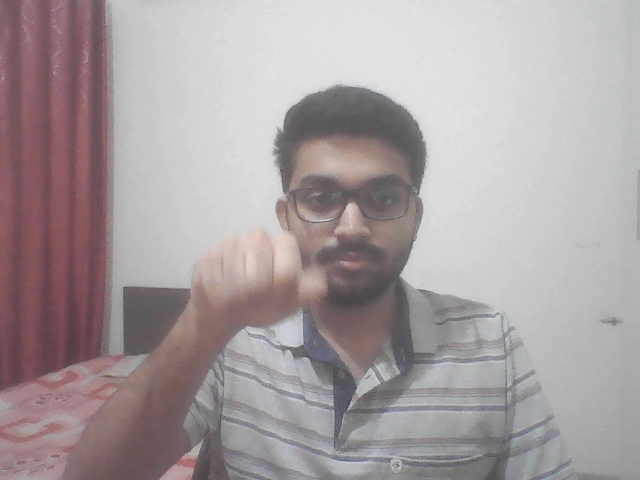yes: (156, 219, 356, 356)
